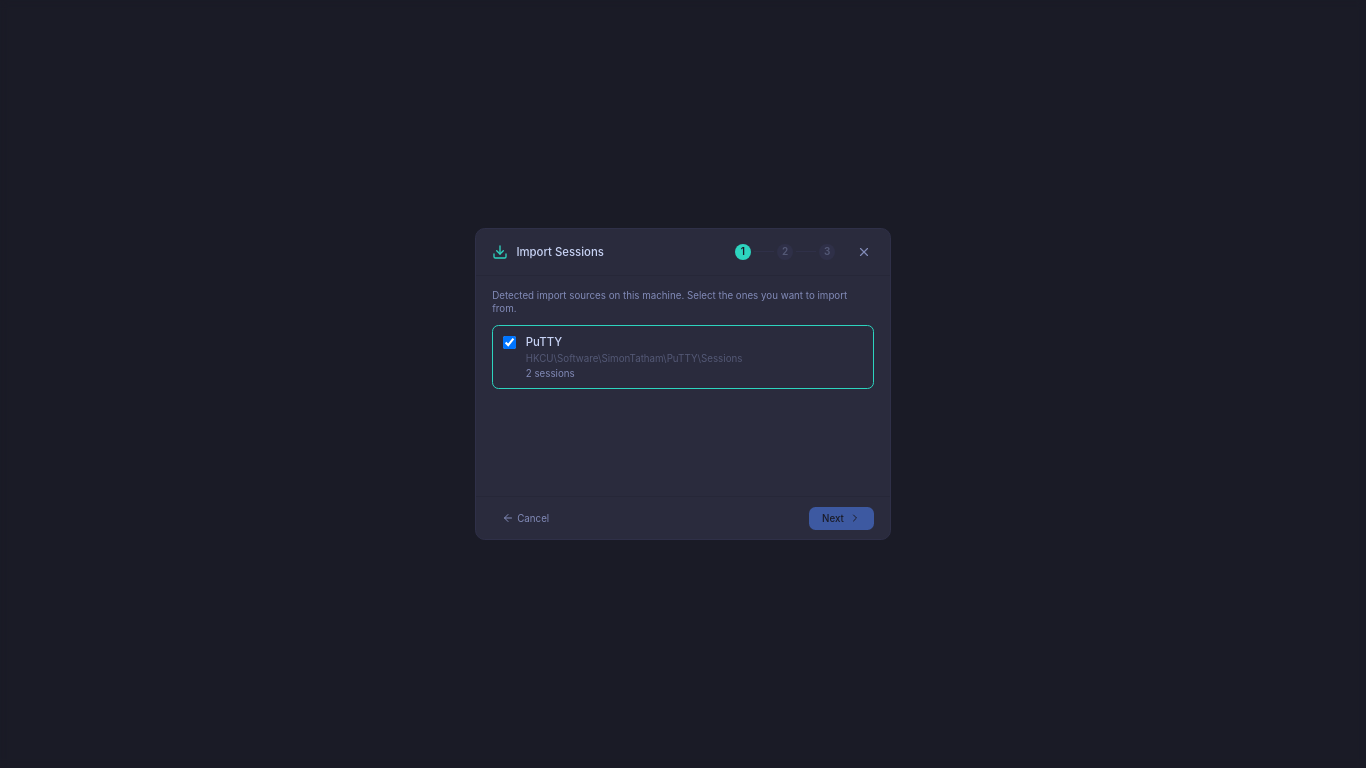
ImportWizard › goes to preview and parses selected sources
Expected: the text "PuTTY" is shown, [526,335,562,349]
Click the button "Next".
click(841, 518)  # box [809,507,874,530]
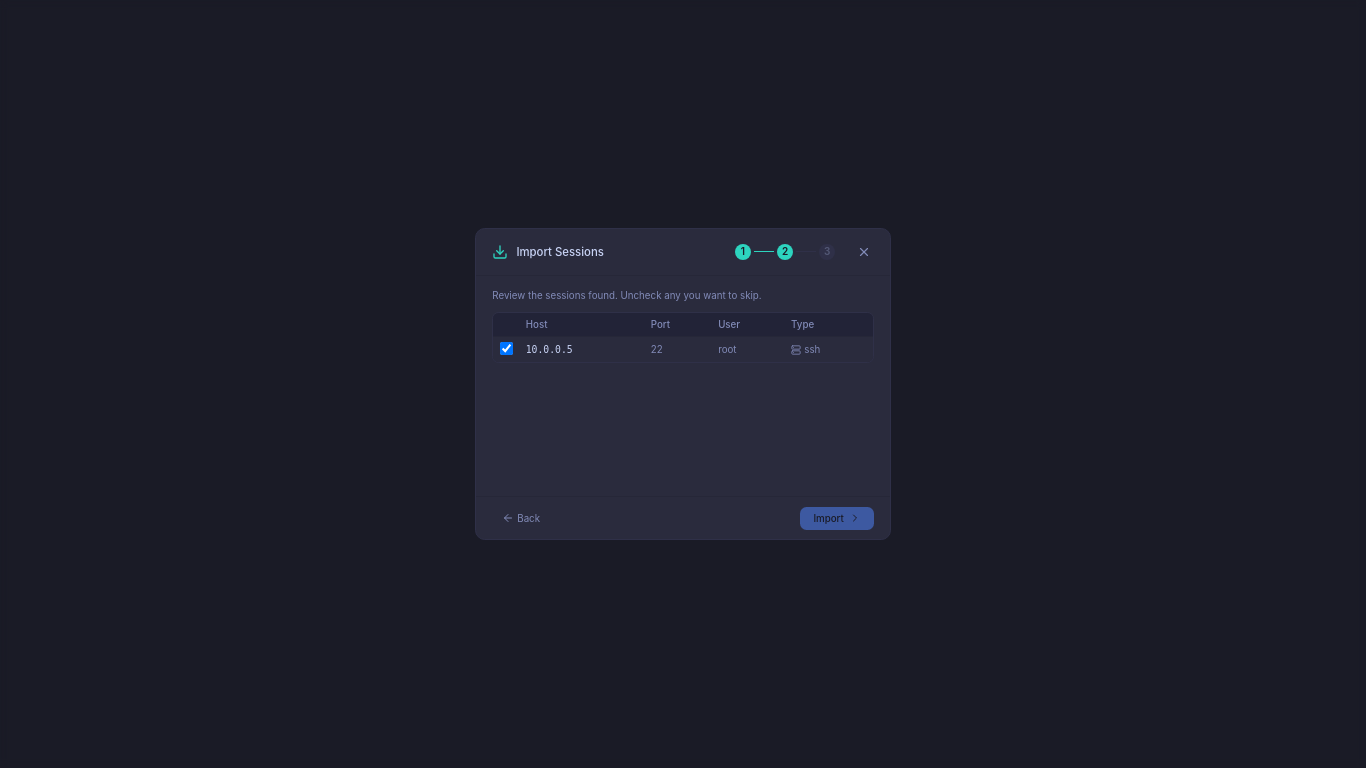
Expected: the text "10.0.0.5" is shown, [519,336,644,362]
